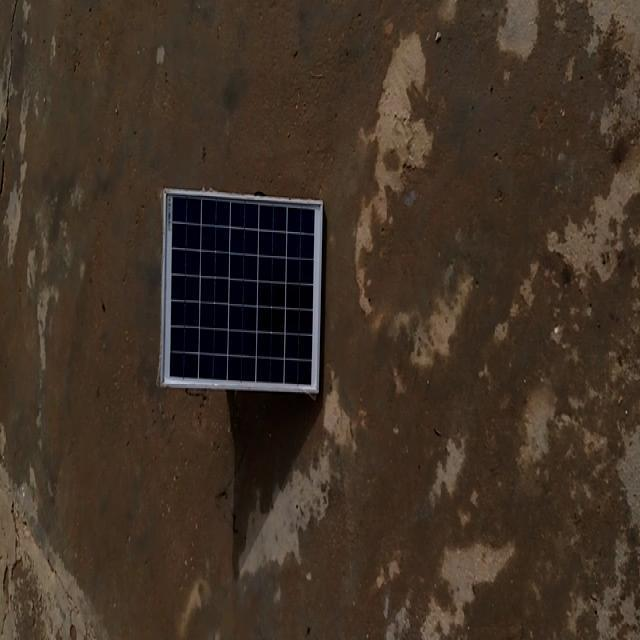Normal Solar Panel: (163, 189, 322, 396)
